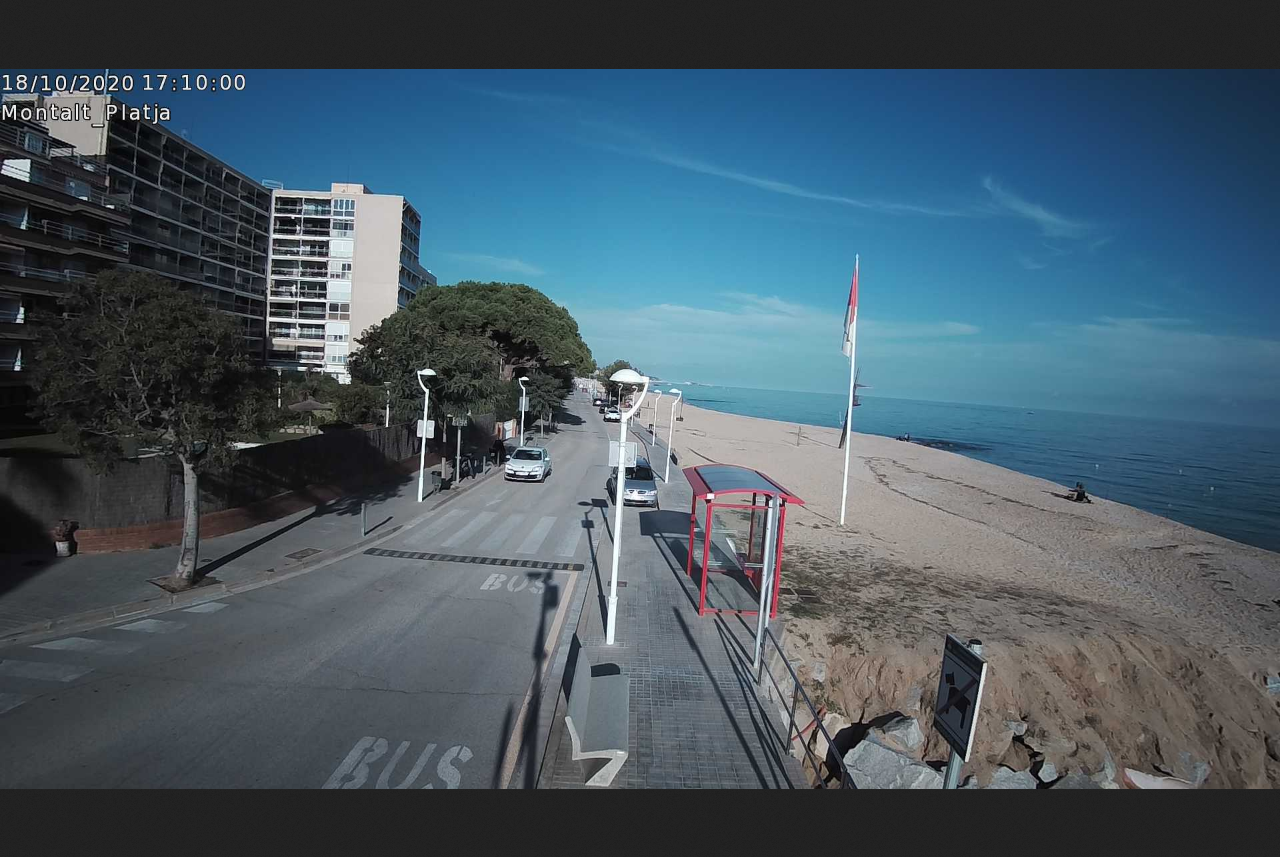no: (839, 265, 860, 355)
